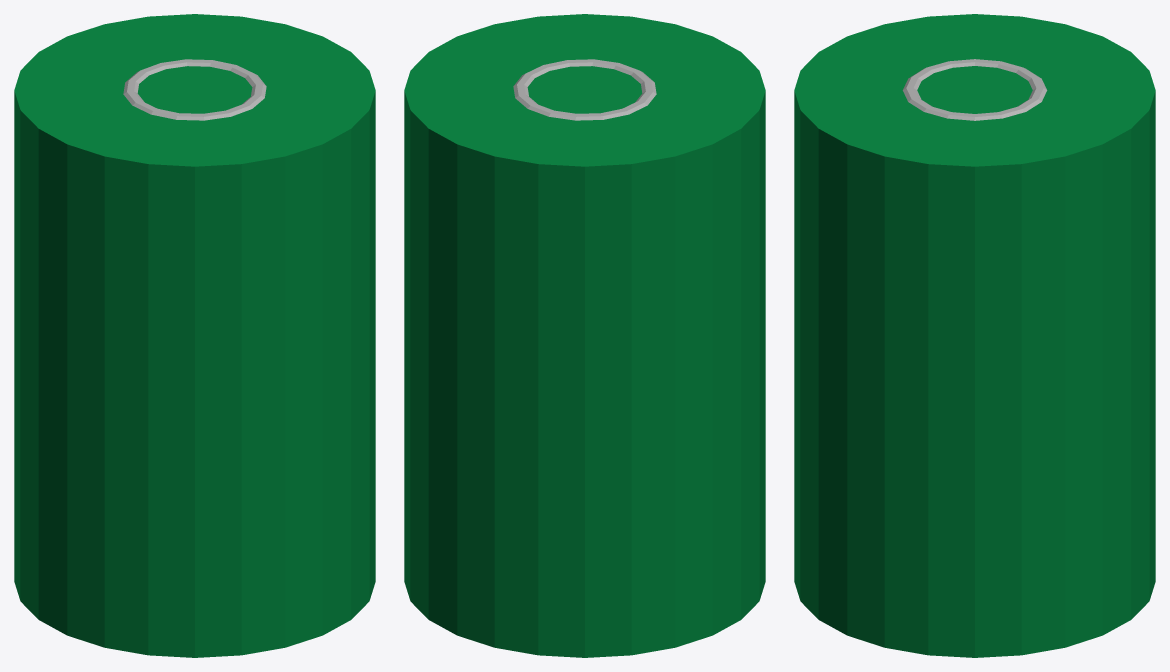
File: 7up_can.glb
The picture shows the model from 3 angles, left to right: view 1: azimuth 30°, elevation 25°; view 2: azimuth 150°, elevation 25°; view 3: azimuth 270°, elevation 25°; orthographic projection.
Parts seen in each view (by area): view 1: CanBody, RingPull; view 2: CanBody, RingPull; view 3: CanBody, RingPull.
Boxes of the visible parts, <box> form: CanBody: <box>14,14,375,657</box>; RingPull: <box>123,59,266,120</box>; CanBody: <box>404,14,765,657</box>; RingPull: <box>513,59,656,120</box>; CanBody: <box>794,14,1155,657</box>; RingPull: <box>902,59,1047,120</box>.
Size of the model in its own units: 1 by 1.51 by 1.
